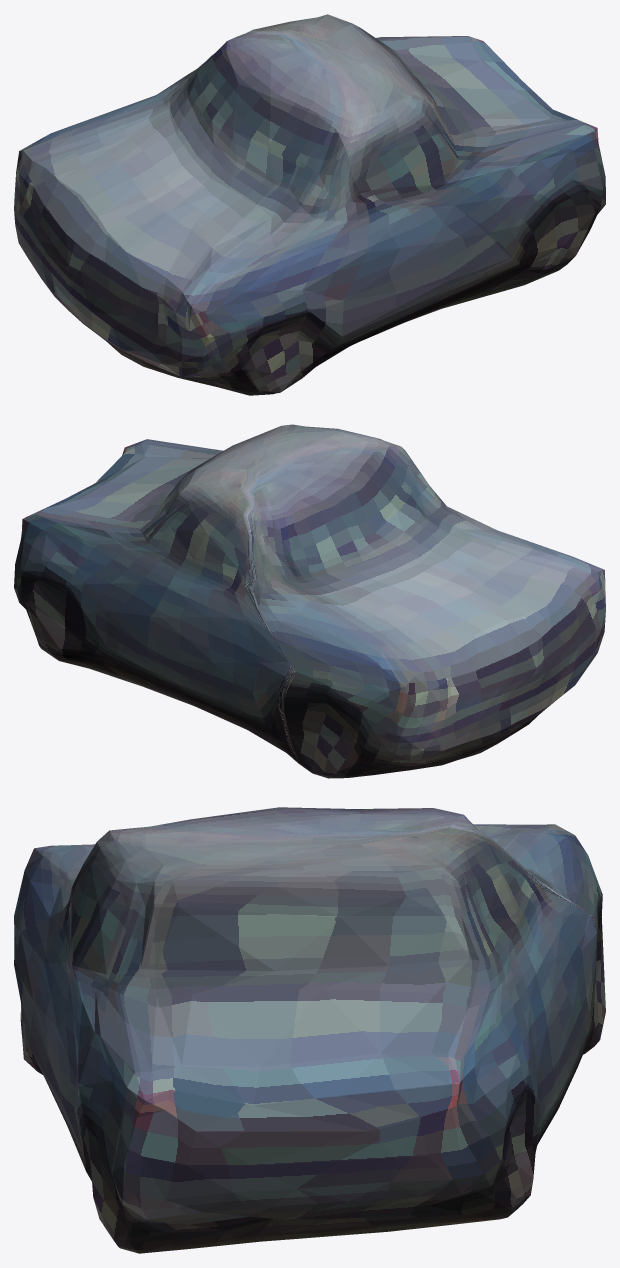
The model's file is video3_247.obj.
The picture shows the model from 3 angles, top to bottom: view 1: azimuth 30°, elevation 25°; view 2: azimuth 150°, elevation 25°; view 3: azimuth 270°, elevation 25°; orthographic projection. The views are drawn at different scales.
Bounding box in the file's own units: 1 × 0.4763 × 0.7386.
1 material, 1 textured.
